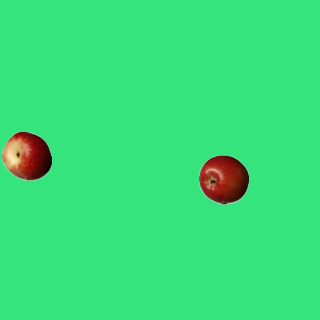Apple Braeburn: (198, 154, 248, 204)
Nectarine: (1, 130, 51, 180)
